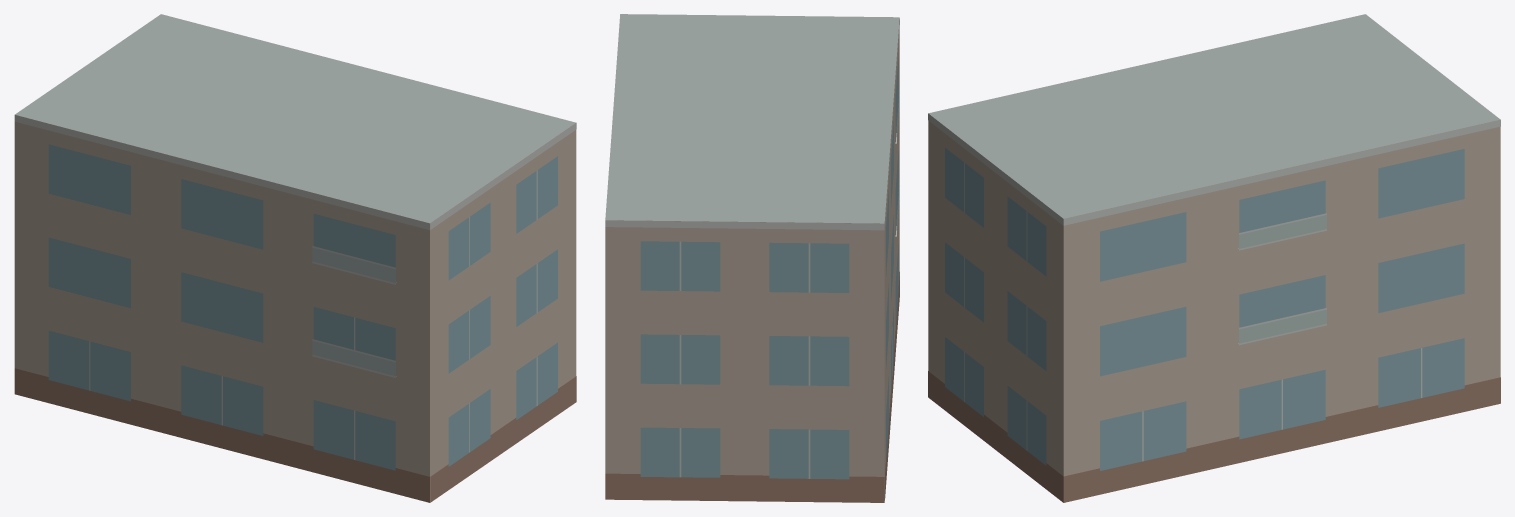
File: survey-upis-32889406.glb
3 renders of one model, left to right at view 1: azimuth 30°, elevation 25°; view 2: azimuth 150°, elevation 25°; view 3: azimuth 270°, elevation 25°, orthographic.
Parts seen in each view (by area): view 1: survey-upis-32889406.tmp; view 2: survey-upis-32889406.tmp; view 3: survey-upis-32889406.tmp.
Boxes of the visible parts, x1,y1,x2,y2 form: survey-upis-32889406.tmp: [14, 14, 576, 502]; survey-upis-32889406.tmp: [605, 14, 899, 502]; survey-upis-32889406.tmp: [928, 14, 1500, 502].
Size of the model in its own units: 15.48 by 10 by 18.28.
